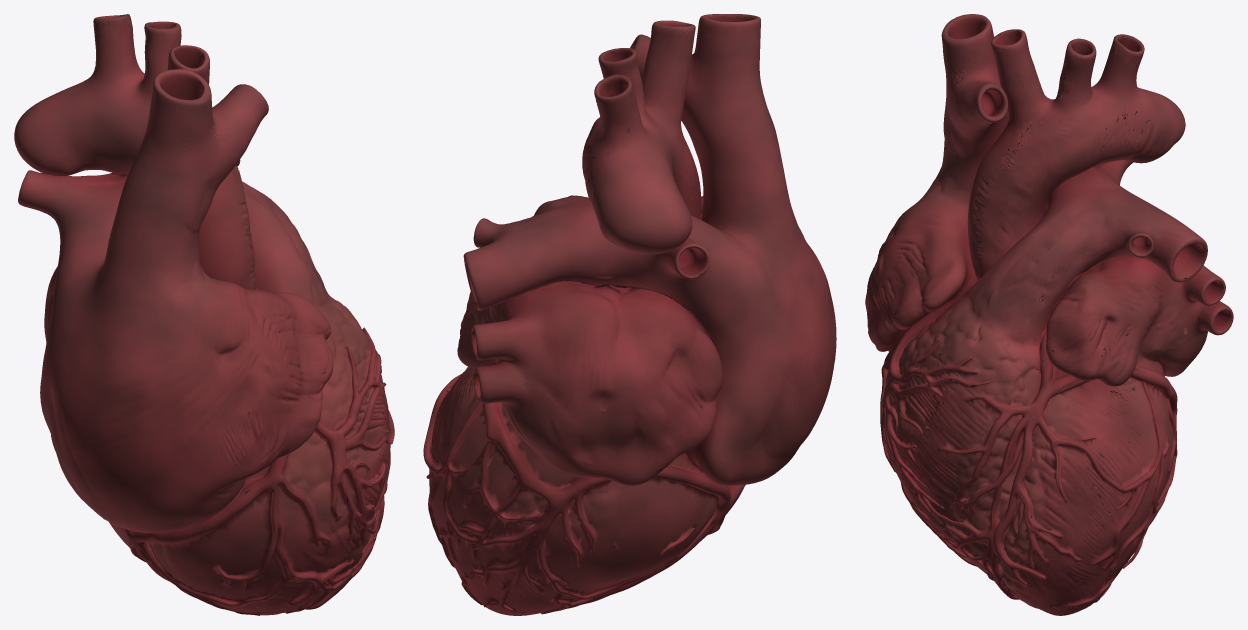
Rendered from lyoh_heart.glb.
The picture shows the model from 3 angles, left to right: view 1: azimuth 30°, elevation 25°; view 2: azimuth 150°, elevation 25°; view 3: azimuth 270°, elevation 25°; orthographic projection. The views are drawn at different scales.
Visible parts, largest first — view 1: LYOH_Heart; view 2: LYOH_Heart; view 3: LYOH_Heart.
Boxes of the visible parts, <box> form: LYOH_Heart: <box>14,14,394,615</box>; LYOH_Heart: <box>423,14,836,615</box>; LYOH_Heart: <box>865,14,1233,615</box>.
Size of the model in its own units: 0.071 by 0.12 by 0.0766.
1 material, 1 textured.
